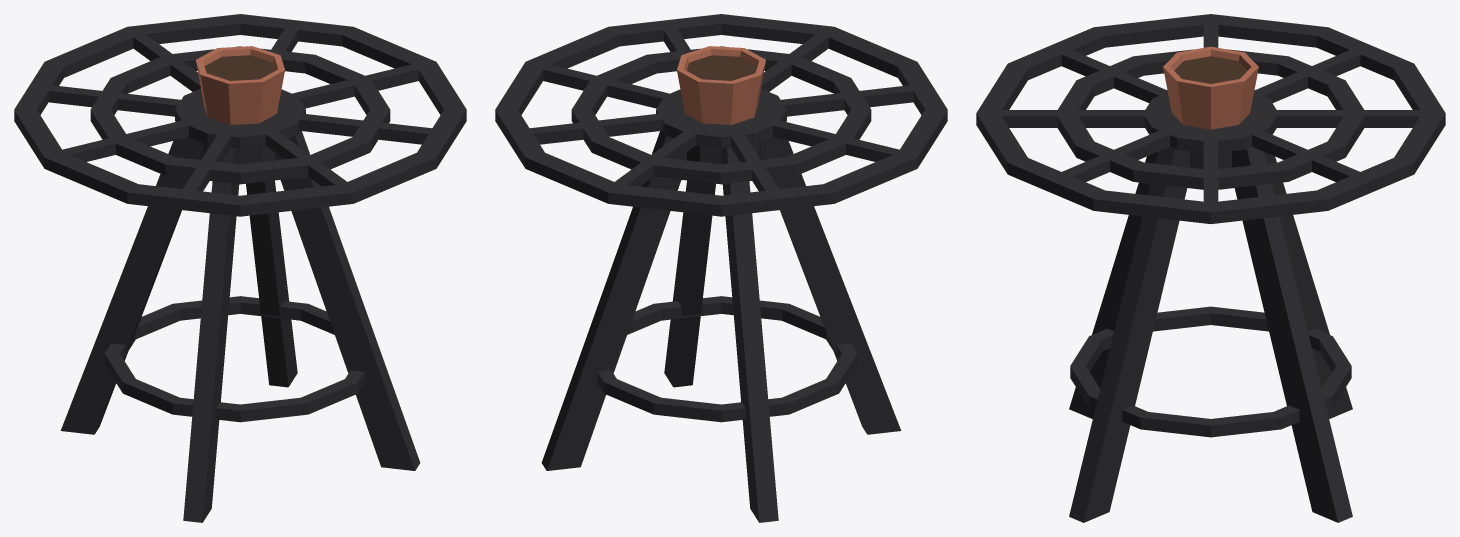
File: FN_Table_Garden_Round.obj
3 views of the same model, side by side, from view 1: azimuth 30°, elevation 25°; view 2: azimuth 150°, elevation 25°; view 3: azimuth 270°, elevation 25° (orthographic). The views are drawn at different scales.
Visible parts, largest first — view 1: FN_Table_Garden_Round; view 2: FN_Table_Garden_Round; view 3: FN_Table_Garden_Round.
Part boxes in pixels (bbox=[...]): FN_Table_Garden_Round: bbox=[14, 14, 466, 522]; FN_Table_Garden_Round: bbox=[495, 14, 947, 522]; FN_Table_Garden_Round: bbox=[976, 14, 1445, 522].
Bounding box in the file's own units: 0.9 × 0.838 × 0.9.
1 material, 1 textured.
